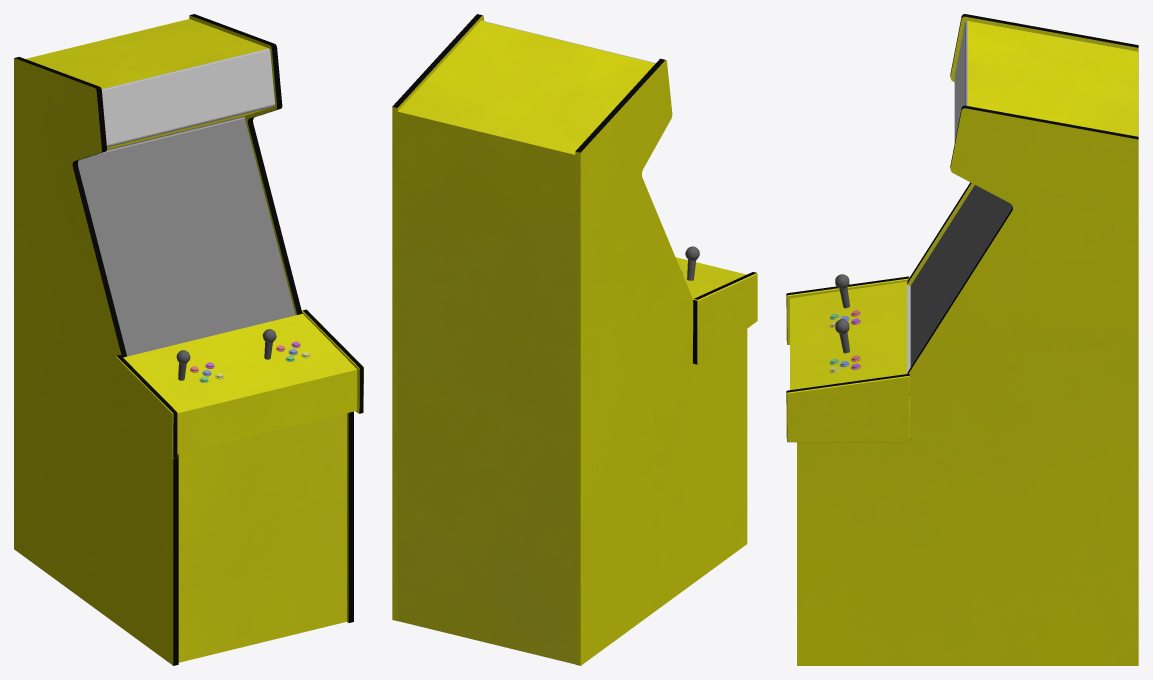
Rendered from MortalCombat04.fbx.
3 renders of one model, left to right at view 1: azimuth 30°, elevation 25°; view 2: azimuth 150°, elevation 25°; view 3: azimuth 270°, elevation 25°, orthographic. The views are drawn at different scales.
Parts seen in each view (by area): view 1: MortalCombat; view 2: MortalCombat; view 3: MortalCombat.
Part boxes in pixels (x1=…): MortalCombat: x1=14, y1=14, x2=363, y2=665; MortalCombat: x1=392, y1=14, x2=757, y2=665; MortalCombat: x1=786, y1=14, x2=1138, y2=665.
Bounding box in the file's own units: 112 × 292 × 167.
Materials: 11 (1 with a texture image).
